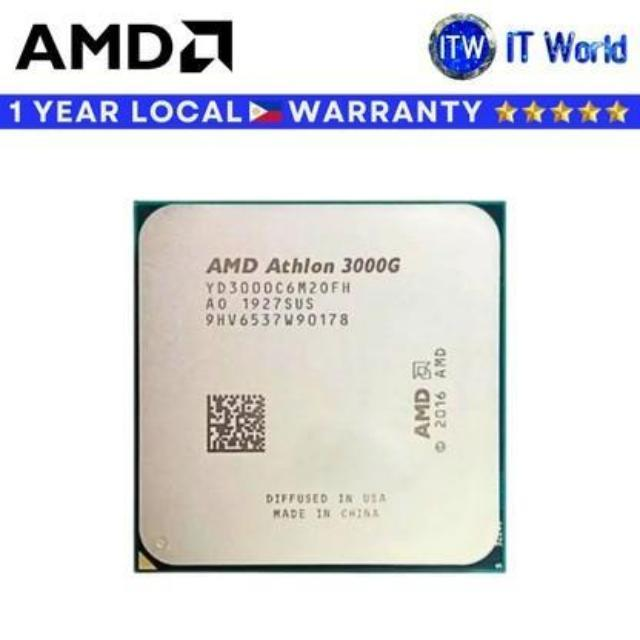CPU: (128, 196, 514, 582)
